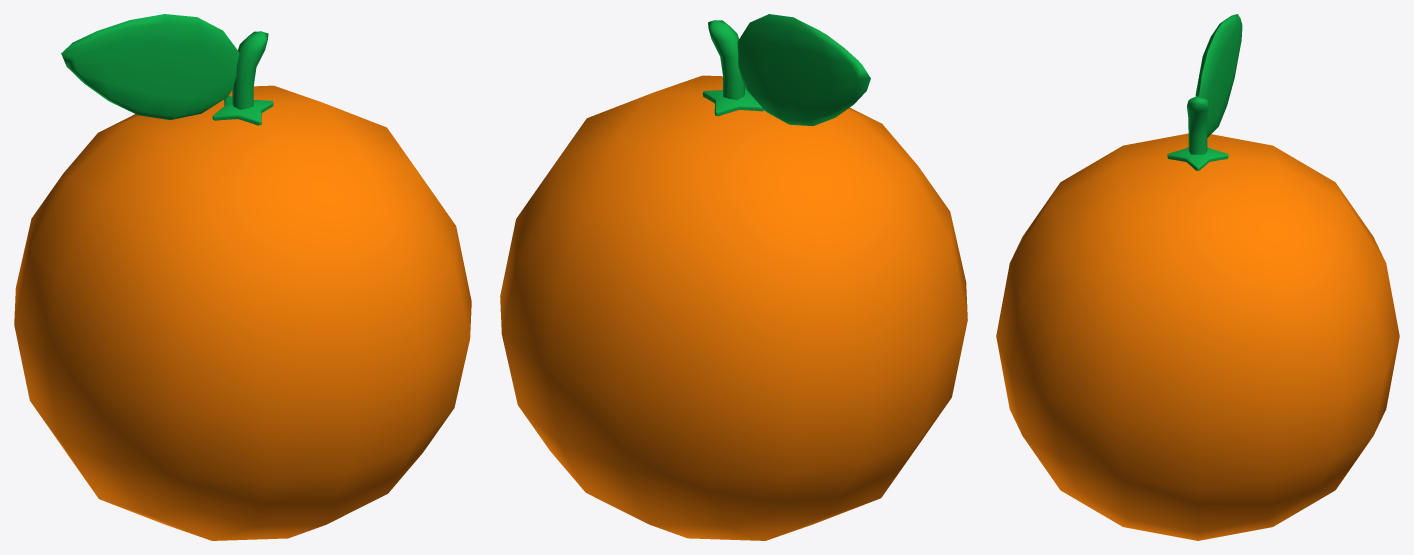
File: orange.glb
3 views of the same model, side by side, from view 1: azimuth 30°, elevation 25°; view 2: azimuth 150°, elevation 25°; view 3: azimuth 270°, elevation 25° (orthographic). The views are drawn at different scales.
Parts seen in each view (by area): view 1: Orange; view 2: Orange; view 3: Orange.
Part boxes in pixels (x1,y1,x2,y2): Orange: (14, 14, 471, 540); Orange: (500, 14, 967, 540); Orange: (996, 14, 1399, 540).
Bounding box in the file's own units: 0.1332 × 0.1665 × 0.1332.
Materials: 1 (1 with a texture image).
